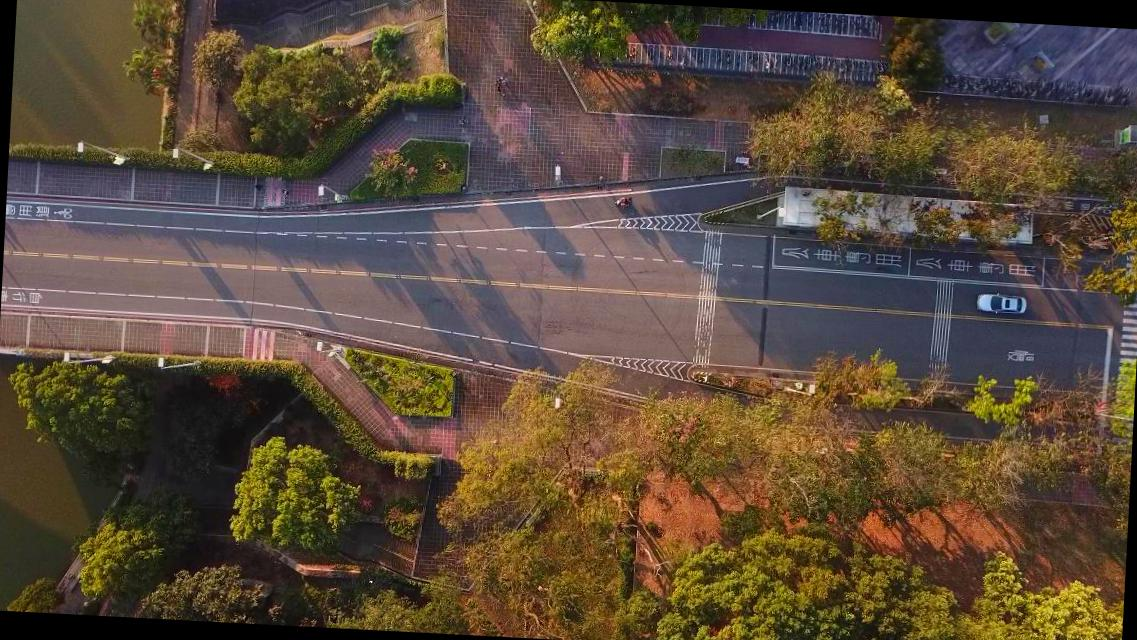vehicle: (976, 292, 1026, 317)
